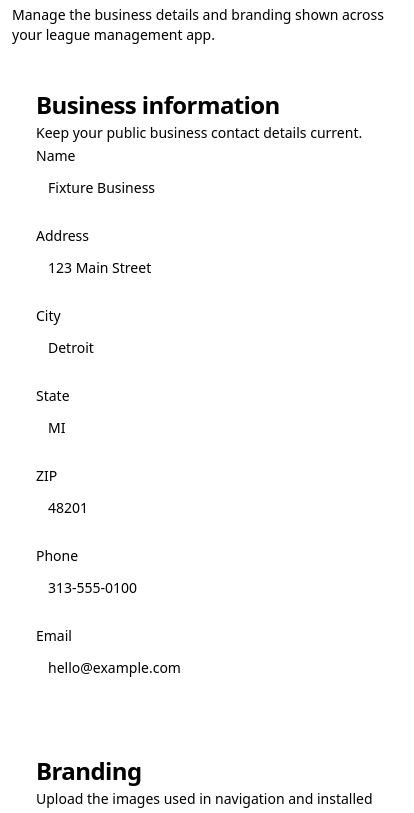
BusinessSettingsPage › PATCHes the business settings and refreshes the cached branding context
Replace the text in the field labelled "Name" with "Updated Business" at (207, 187), box [36, 167, 378, 207]
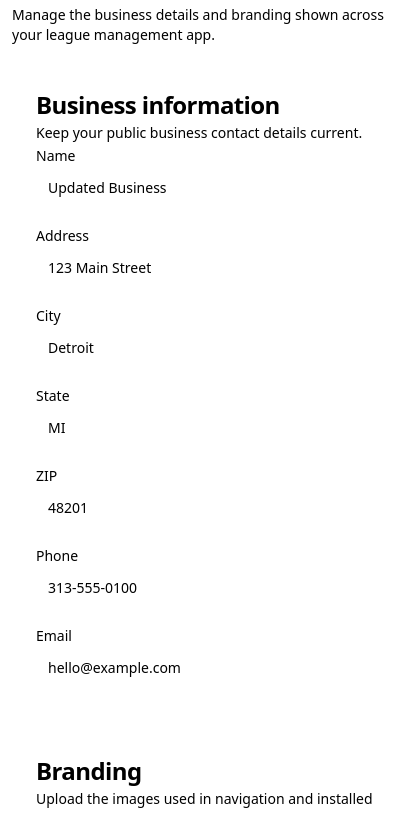
Replace the text in the field labelled "City" with "Ann Arbor" at (207, 347), box [36, 327, 378, 367]
(page scrolled)
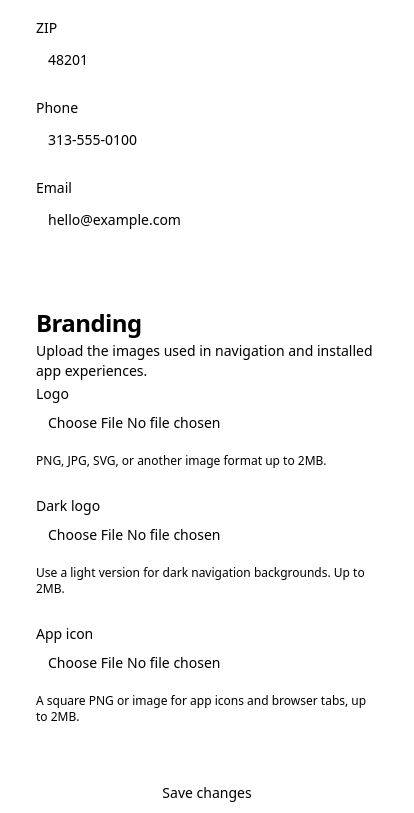
Click the button "Save changes" at (207, 793), box [12, 773, 402, 812]
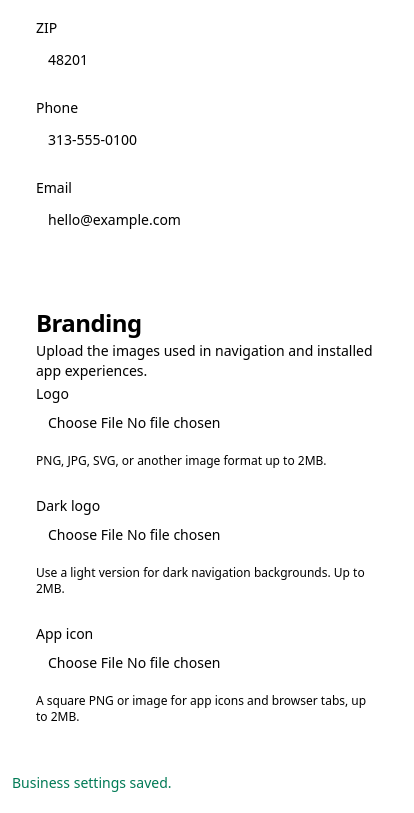
Check: the message reads "Business settings saved.", box [12, 773, 172, 792]
